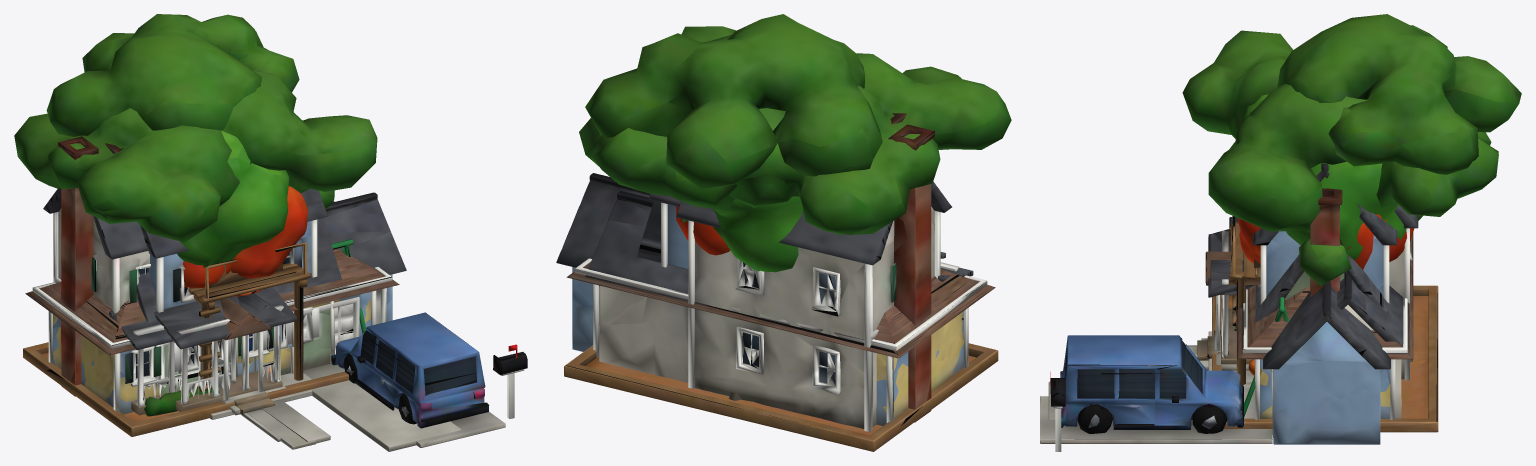
The model's file is modern_decor_suburb.glb.
The picture shows the model from 3 angles, left to right: view 1: azimuth 30°, elevation 25°; view 2: azimuth 150°, elevation 25°; view 3: azimuth 270°, elevation 25°; orthographic projection. The views are drawn at different scales.
Parts seen in each view (by area): view 1: House_A, Oak, Treehouse, House_B, House_D, House_E, House_C, Maple_A, Playground, Maple_B, Hoop; view 2: House_D, Treehouse, Oak, Playground, House_B, House_A, House_E, Maple_A, House_C, Maple_B; view 3: House_A, Treehouse, Oak, Playground, House_C, House_D, House_E, Maple_A, House_B, Maple_B.
Part boxes in pixels (box(x1,y1,x2,y2)): House_A: box(105, 143, 527, 449); Oak: box(14, 70, 377, 242); Treehouse: box(46, 14, 334, 391); House_B: box(25, 249, 461, 451); House_D: box(43, 136, 334, 415); House_E: box(26, 249, 399, 416); House_C: box(136, 218, 341, 443); Maple_A: box(177, 131, 289, 267); Playground: box(23, 239, 365, 436); Maple_B: box(172, 186, 308, 288); Hoop: box(210, 365, 322, 419); House_D: box(585, 124, 973, 431); Treehouse: box(585, 14, 882, 400); Oak: box(579, 26, 1011, 234); Playground: box(564, 343, 998, 451); House_B: box(566, 258, 995, 422); House_A: box(556, 113, 945, 351); House_E: box(567, 258, 994, 425); Maple_A: box(680, 196, 803, 272); House_C: box(637, 201, 688, 269); Maple_B: box(676, 206, 730, 255); House_A: box(1040, 163, 1397, 451); Treehouse: box(1229, 14, 1521, 384); Oak: box(1182, 30, 1498, 231); Playground: box(1212, 285, 1438, 432); House_C: box(1195, 188, 1386, 370); House_D: box(1229, 205, 1418, 418); House_E: box(1201, 241, 1412, 419); Maple_A: box(1229, 94, 1422, 260); House_B: box(1048, 232, 1413, 419); Maple_B: box(1238, 214, 1414, 269).
Size of the model in its own units: 3.36 by 3.23 by 3.92.
1 material, 1 textured.
